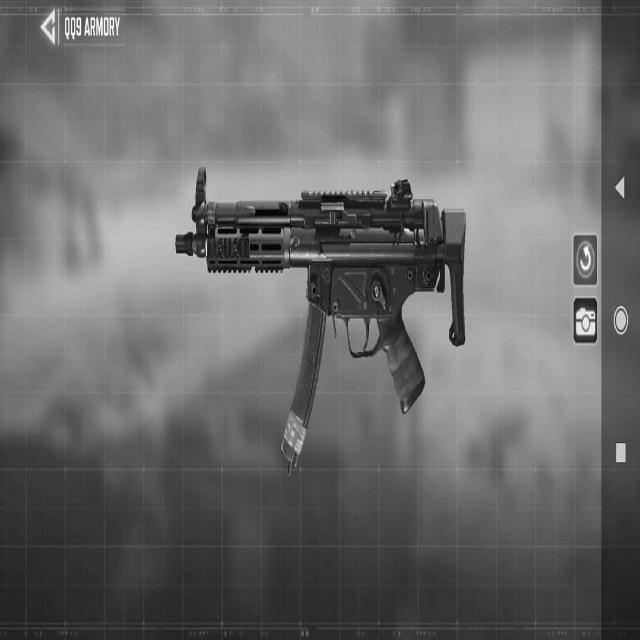Sub-machine-gun: (174, 156, 484, 494)
